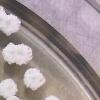white: (24, 67, 46, 91), (14, 43, 33, 67), (4, 14, 22, 37), (0, 78, 19, 97), (3, 43, 16, 66), (0, 5, 8, 33), (44, 92, 62, 100), (6, 95, 22, 100)
